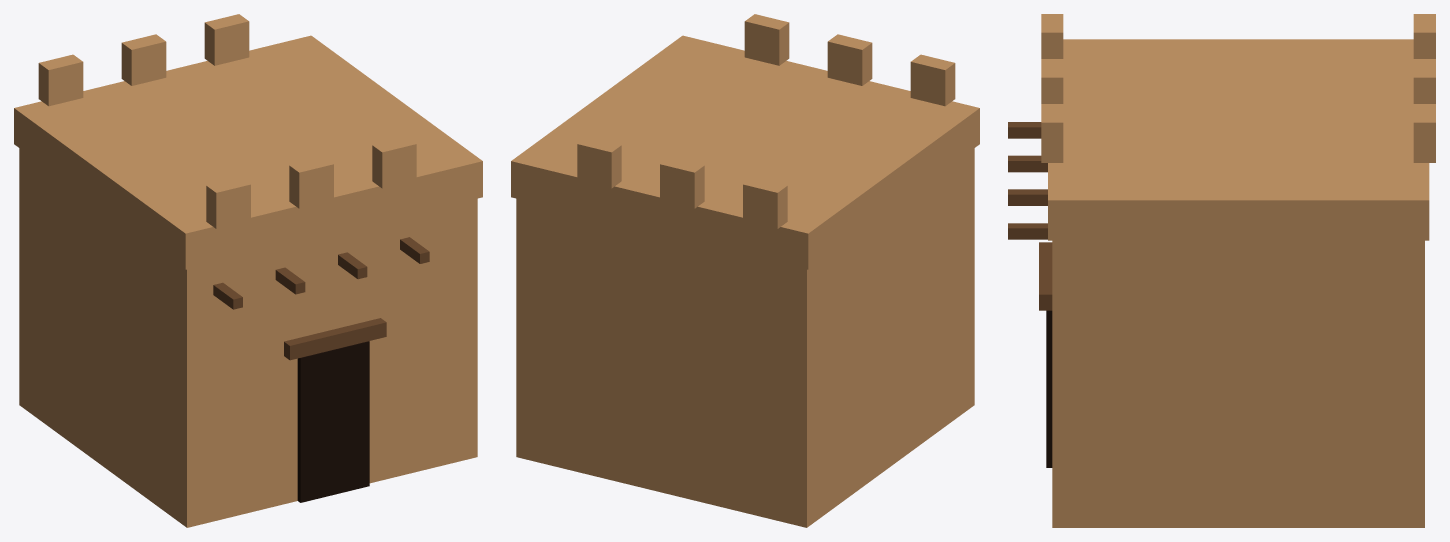
The model's file is house_c.glb.
3 renders of one model, left to right at view 1: azimuth 30°, elevation 25°; view 2: azimuth 150°, elevation 25°; view 3: azimuth 270°, elevation 25°, orthographic. The views are drawn at different scales.
Visible parts, largest first — view 1: House; view 2: House; view 3: House.
Boxes of the visible parts, left/top/right/bottom form: House: left=14, top=14, right=482, bottom=527; House: left=511, top=14, right=979, bottom=527; House: left=1008, top=14, right=1435, bottom=527.
Bounding box in the file's own units: 4.3 × 4.6 × 4.82.
